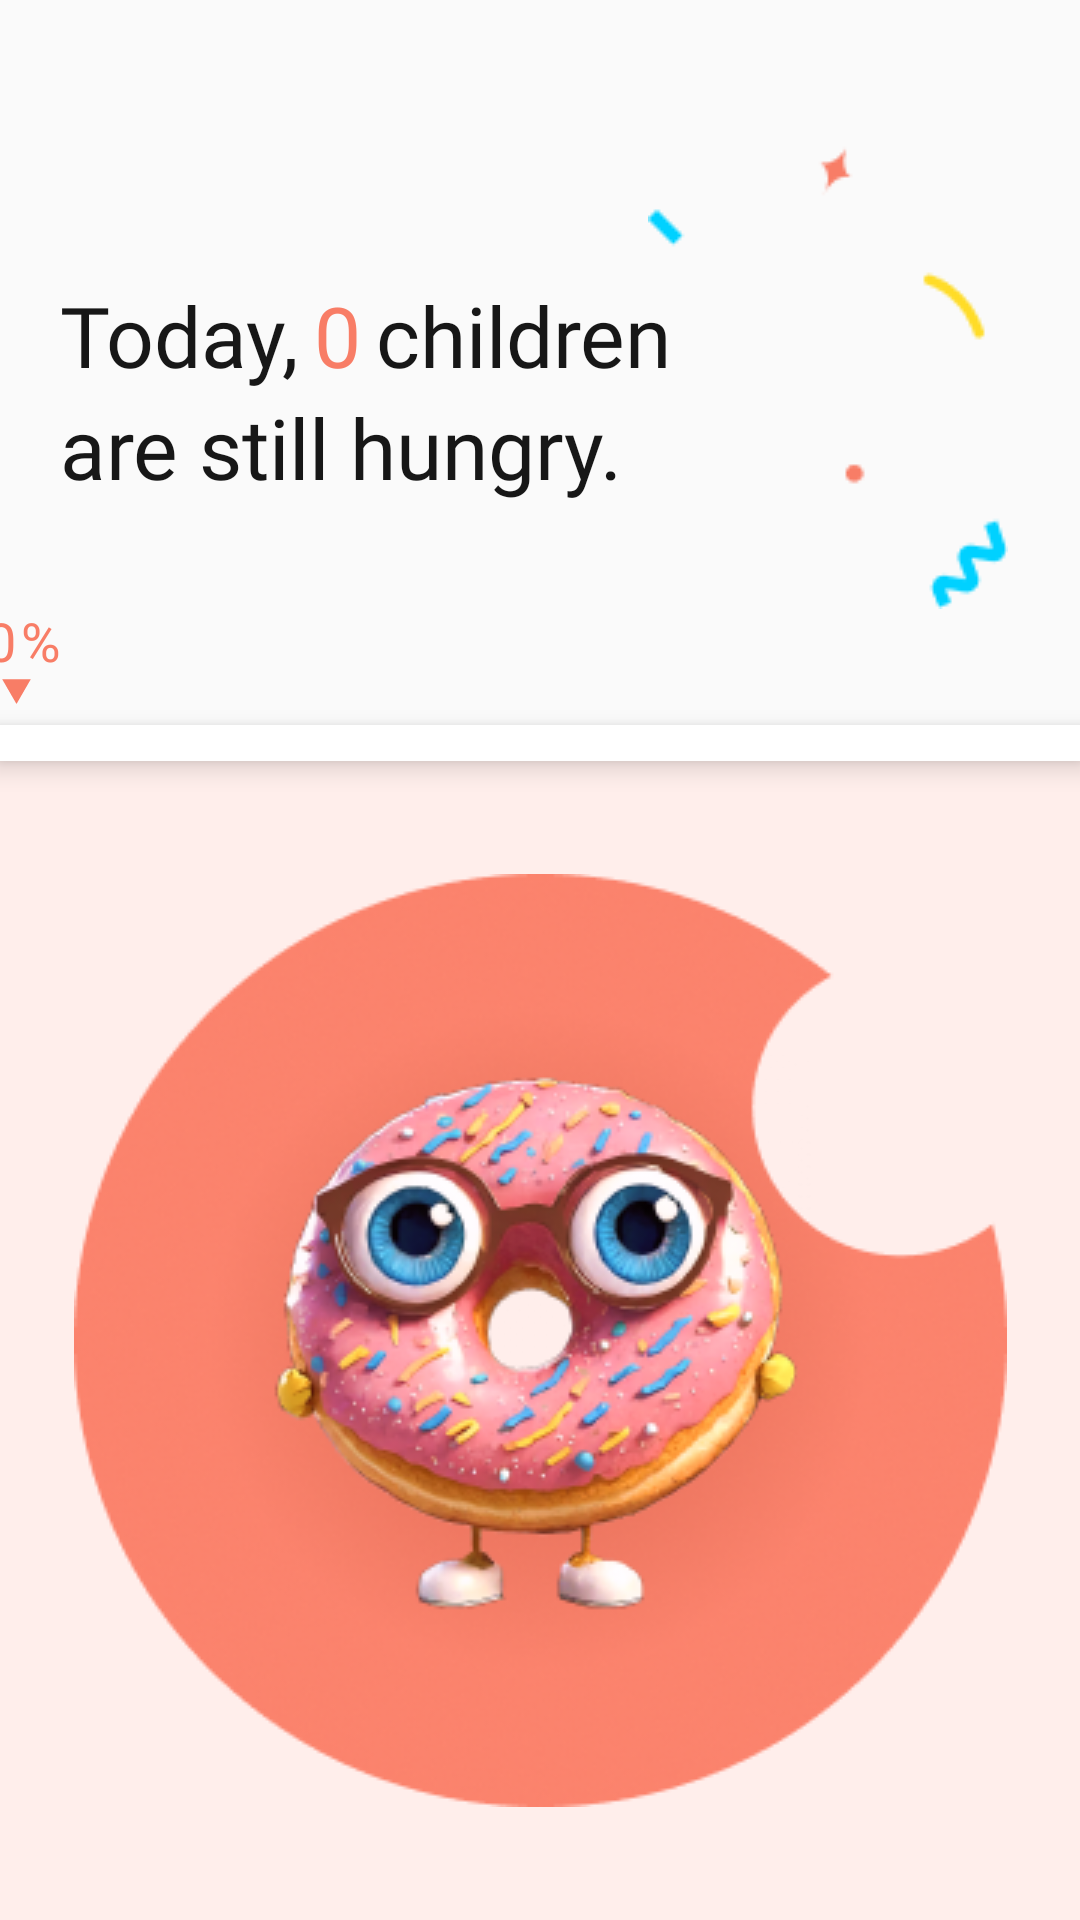

Icon click points for this 1080px×1920px phone screenshot, format (x=x, y=y):
pointer: (x=16, y=691)
